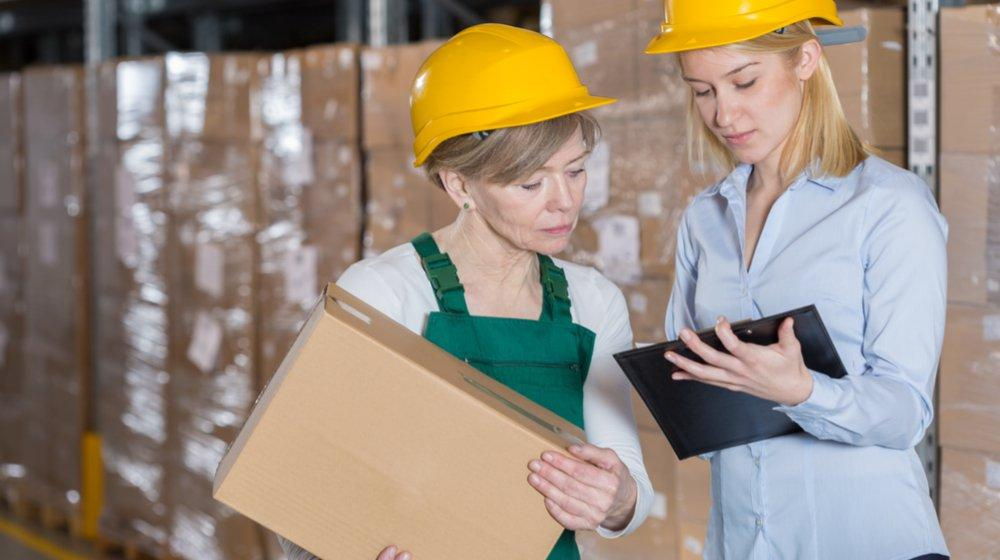helmet: (413, 25, 617, 164), (649, 1, 846, 57)
